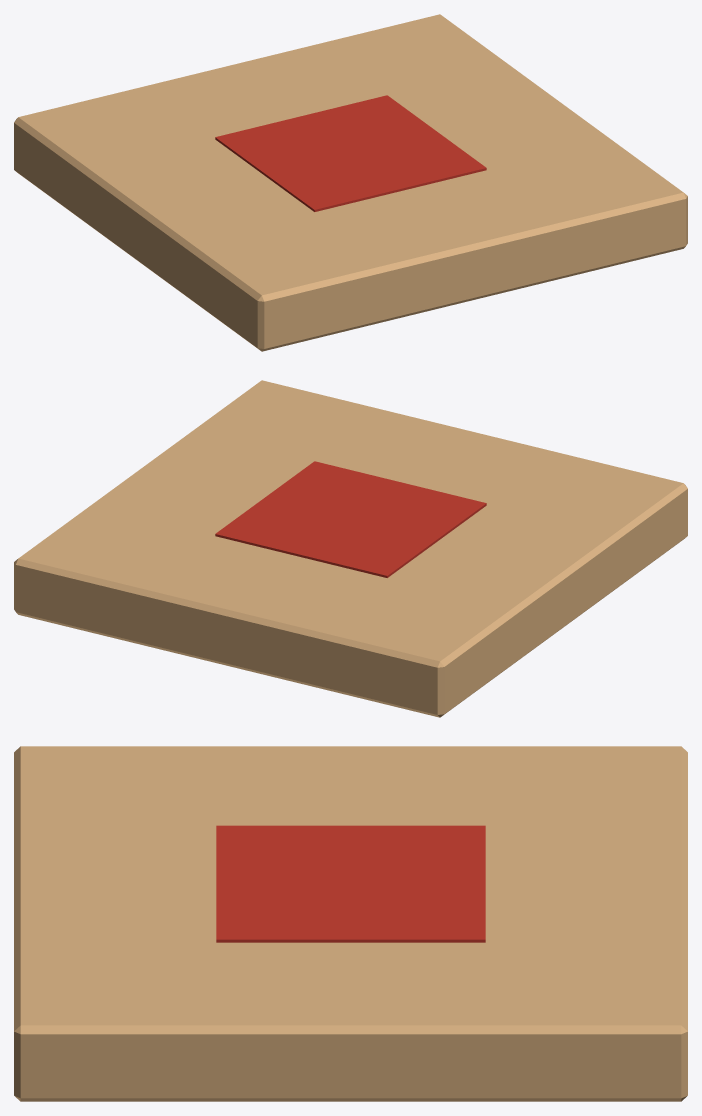
The model's file is pizza_box.glb.
The picture shows the model from 3 angles, top to bottom: view 1: azimuth 30°, elevation 25°; view 2: azimuth 150°, elevation 25°; view 3: azimuth 270°, elevation 25°; orthographic projection. The views are drawn at different scales.
Visible parts, largest first — view 1: pizza_box; view 2: pizza_box; view 3: pizza_box.
Part boxes in pixels (<box>): pizza_box: <box>14,14,687,351</box>; pizza_box: <box>14,380,687,717</box>; pizza_box: <box>14,746,687,1101</box>.
Size of the model in its own units: 0.4 by 0.052 by 0.4.
